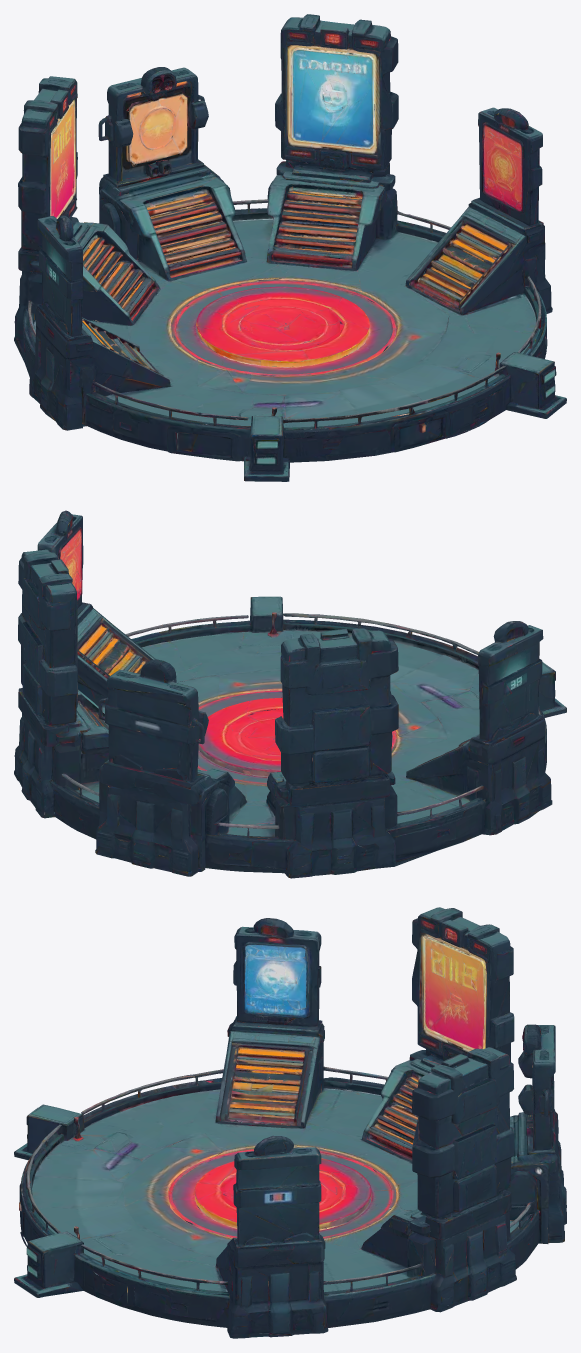
File: bld-mecha-arena.glb
3 views of the same model, one above another, from view 1: azimuth 30°, elevation 25°; view 2: azimuth 150°, elevation 25°; view 3: azimuth 270°, elevation 25° (orthographic).
Visible parts, largest first — view 1: Mesh_0; view 2: Mesh_0; view 3: Mesh_0.
Boxes of the visible parts, x1=… form: Mesh_0: x1=14, y1=14, x2=566, y2=481; Mesh_0: x1=14, y1=510, x2=566, y2=878; Mesh_0: x1=14, y1=907, x2=566, y2=1338.
Bounding box in the file's own units: 1.89 × 0.8412 × 1.85.
1 material, 1 textured.
